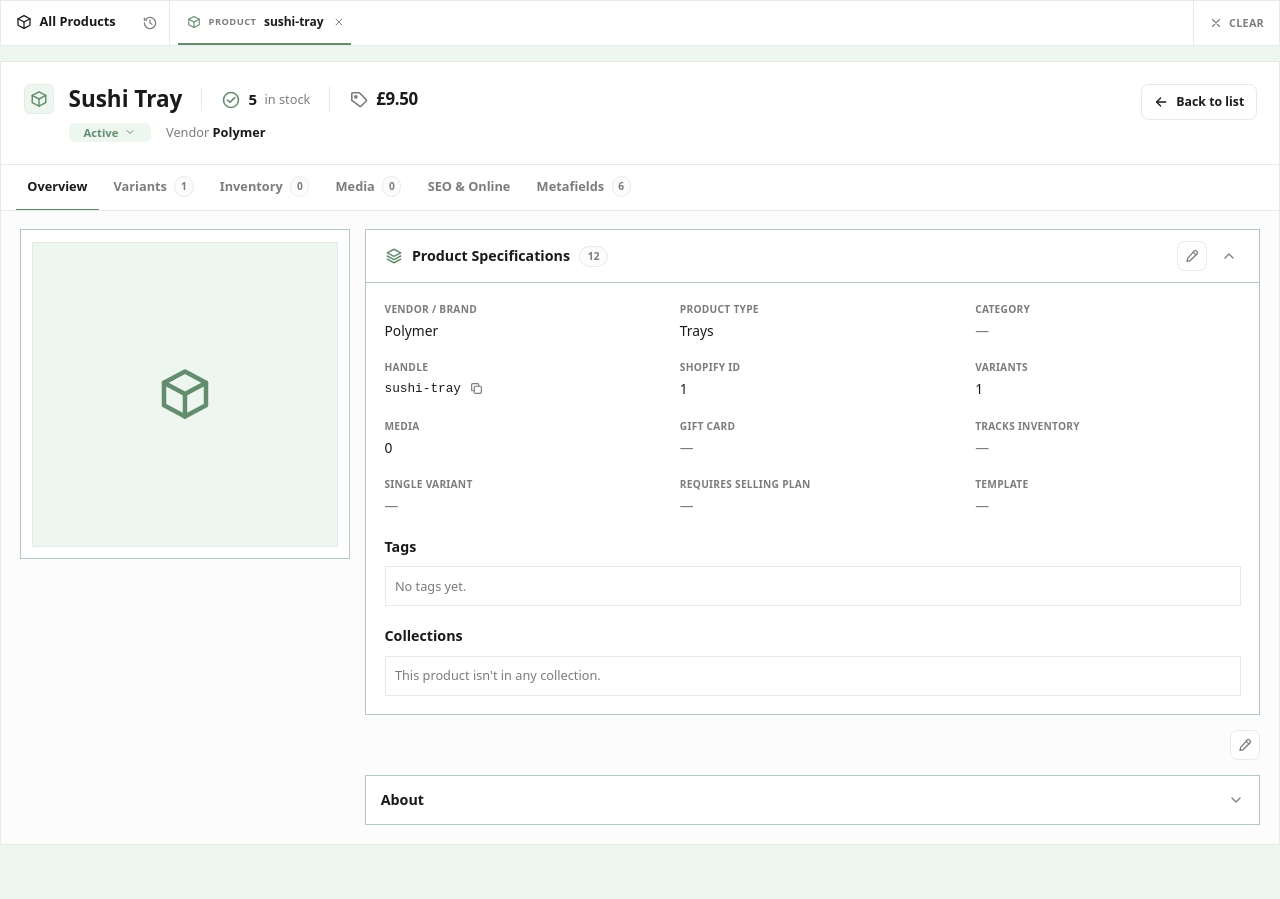
it: editing metafields and the variant tax code on the product page › Metafields tab › has a pencil, and only offers Save once something changed
Click the tab "Metafields 6" at (584, 188), box top-left (525, 165), bottom-right (642, 211)
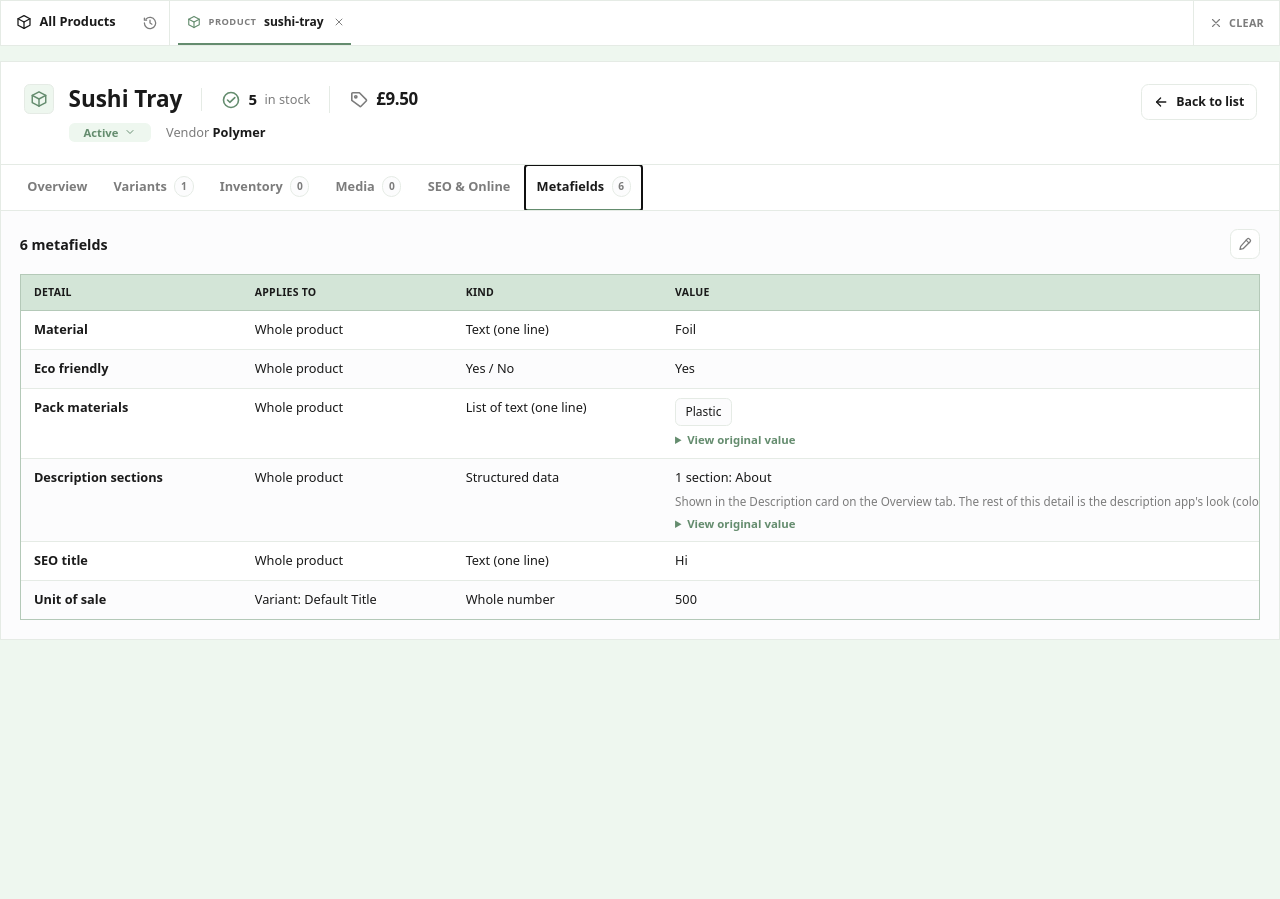
Click the button named "Edit metafields" at (1245, 244), box top-left (1230, 230), bottom-right (1260, 260)
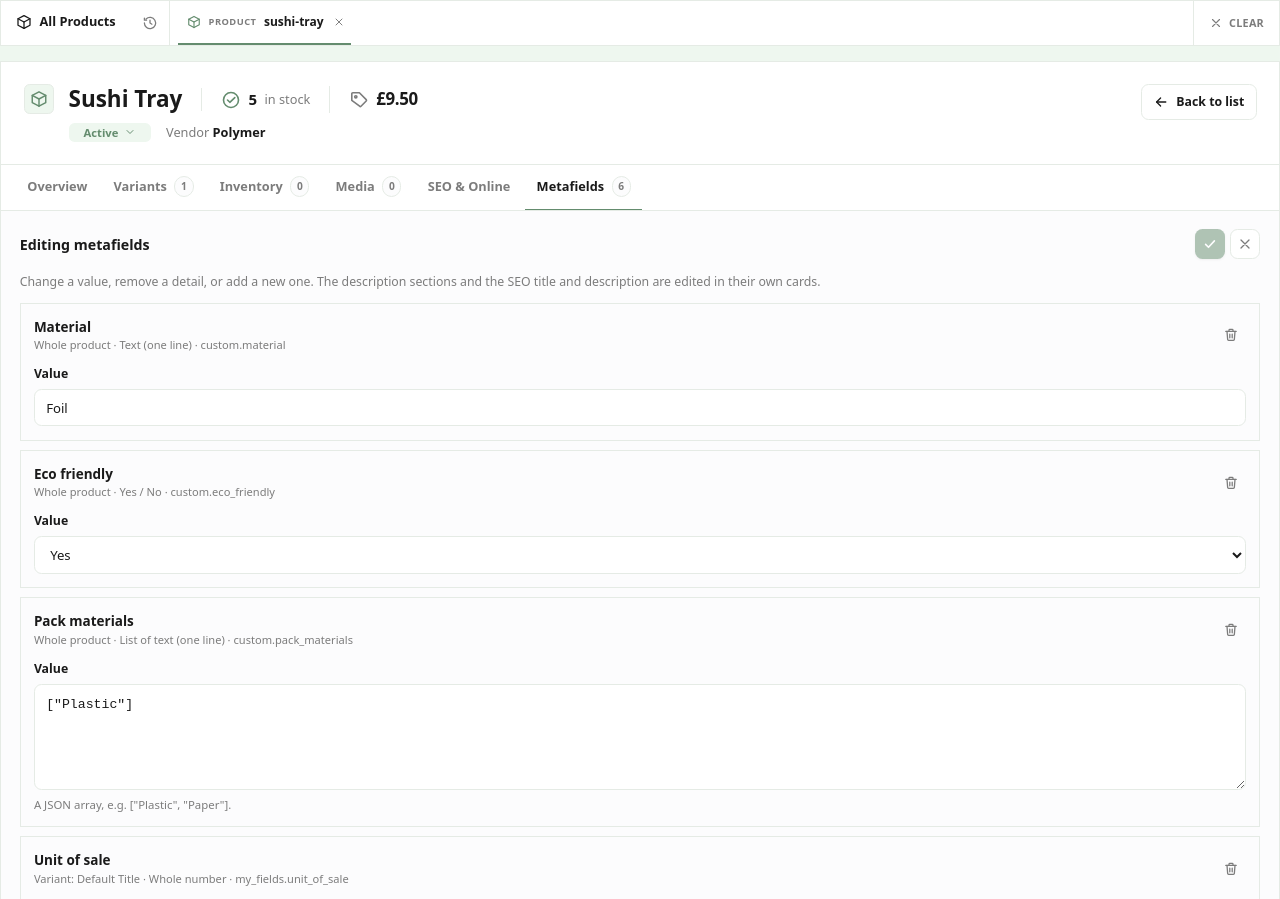
Result: the text "Unit of sale" is shown at top-left (34, 851), bottom-right (110, 869)
Result: the button named "Save metafields" is disabled at top-left (1195, 230), bottom-right (1225, 260)
Result: the text "Material" is shown at top-left (34, 318), bottom-right (91, 336)
